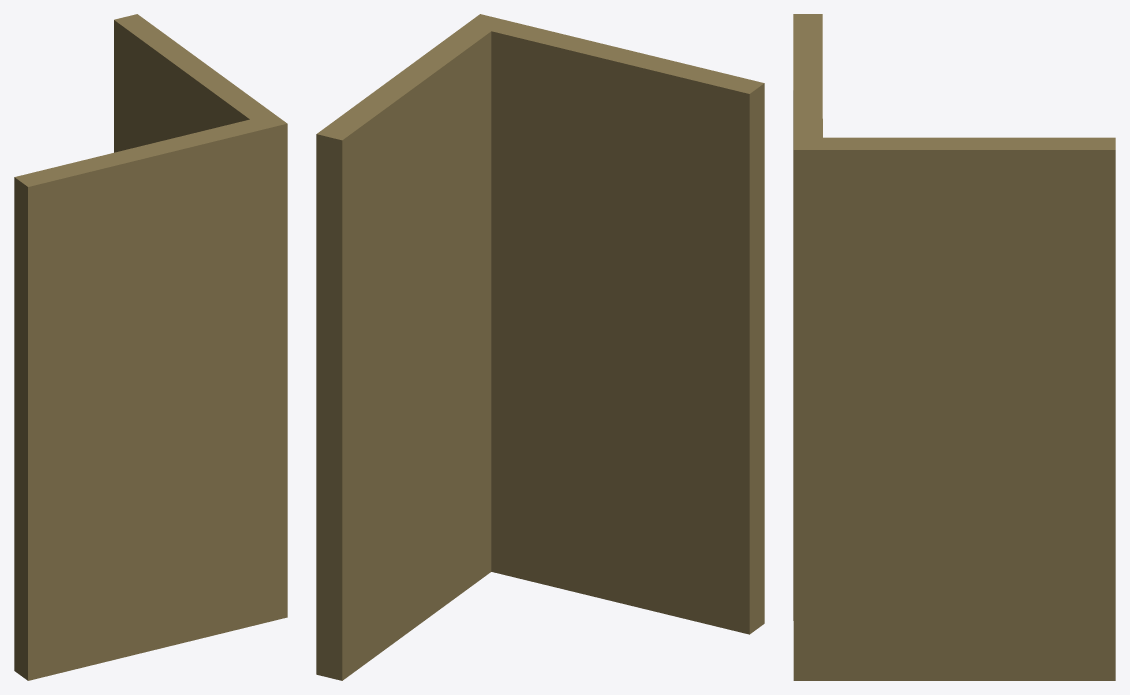
The model's file is MOD_Half_Corner_Wall.fbx.
3 renders of one model, left to right at view 1: azimuth 30°, elevation 25°; view 2: azimuth 150°, elevation 25°; view 3: azimuth 270°, elevation 25°, orthographic. The views are drawn at different scales.
Visible parts, largest first — view 1: Half Wall Corner; view 2: Half Wall Corner; view 3: Half Wall Corner.
Boxes of the visible parts, x1=… form: Half Wall Corner: x1=14, y1=14, x2=287, y2=680; Half Wall Corner: x1=316, y1=14, x2=764, y2=680; Half Wall Corner: x1=793, y1=14, x2=1115, y2=680.
Bounding box in the file's own units: 110 × 200 × 110.
